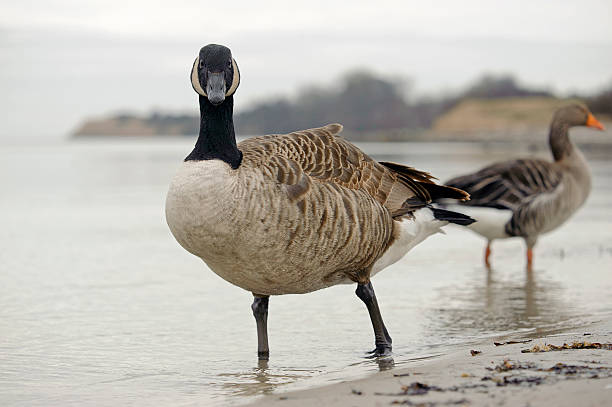goose: (161, 41, 473, 378), (427, 98, 605, 278)
